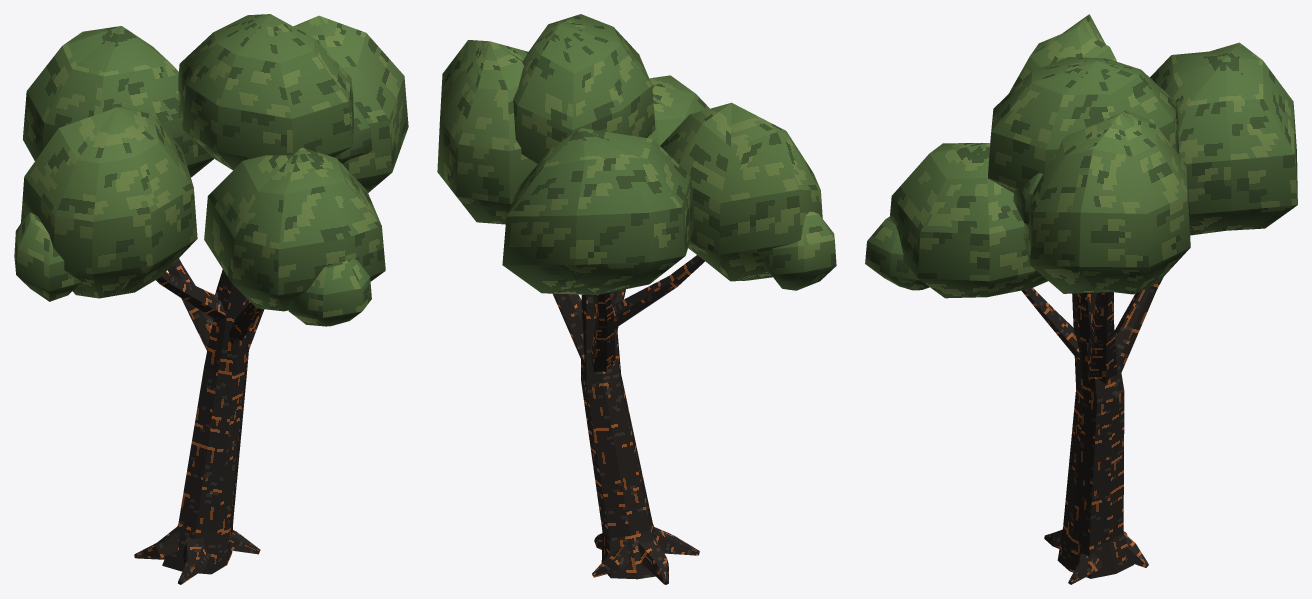
Rendered from t_tree_blackjack.glb.
3 views of the same model, side by side, from view 1: azimuth 30°, elevation 25°; view 2: azimuth 150°, elevation 25°; view 3: azimuth 270°, elevation 25° (orthographic). The views are drawn at different scales.
Visible parts, largest first — view 1: t_tree_blackjack_mesh; view 2: t_tree_blackjack_mesh; view 3: t_tree_blackjack_mesh.
Boxes of the visible parts, x1,y1,x2,y2 form: t_tree_blackjack_mesh: (14,14,408,584); t_tree_blackjack_mesh: (437,14,836,584); t_tree_blackjack_mesh: (865,14,1297,584).
Size of the model in its own units: 2.2 by 2.8 by 2.04.
Materials: 1 (1 with a texture image).
